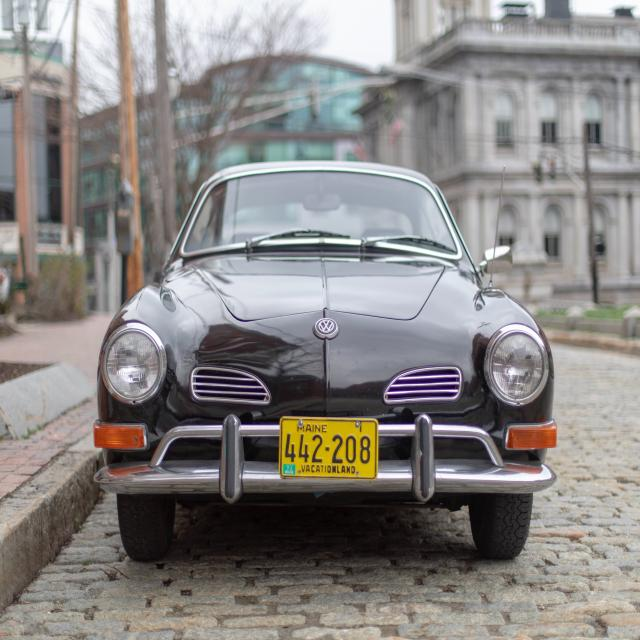Plat: (278, 414, 379, 482)
